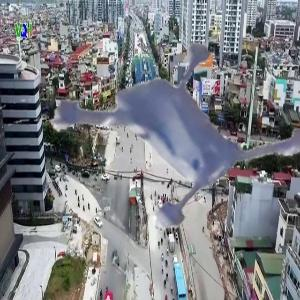drone: (2, 1, 286, 285)
